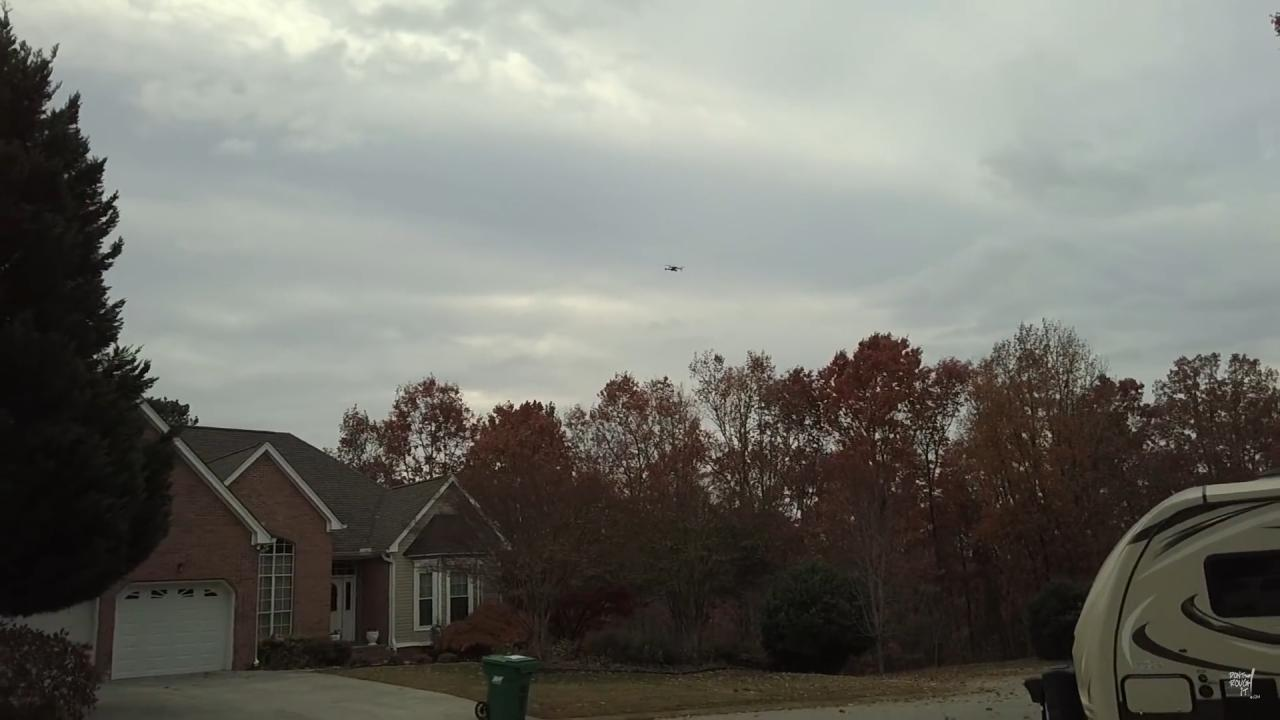Drone: (662, 262, 687, 274)
